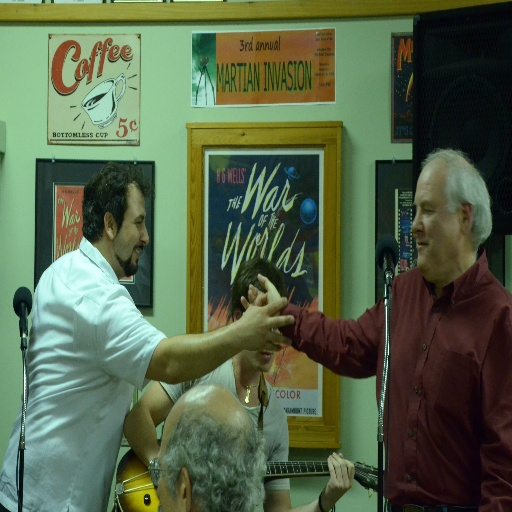hand: (230, 284, 297, 379), (320, 451, 355, 511), (240, 275, 282, 315)
